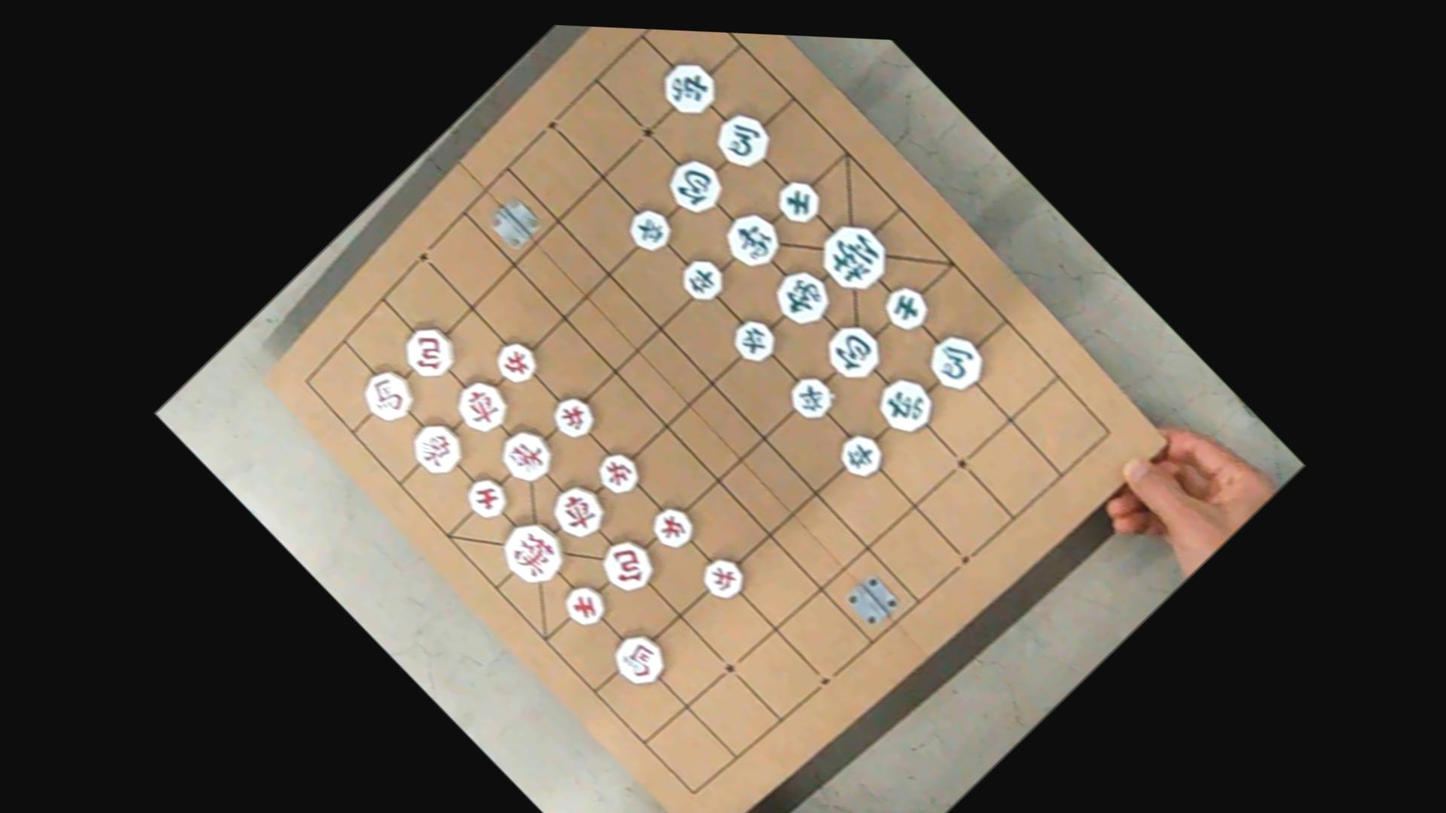cha_green: (869, 369, 941, 443), (654, 53, 725, 125)
cha_red: (544, 477, 613, 547), (447, 372, 516, 441)
jol_green: (831, 426, 889, 486), (782, 368, 840, 427), (673, 251, 731, 309), (621, 200, 678, 258), (726, 312, 783, 370)
jol_red: (695, 550, 752, 607), (645, 499, 700, 556), (545, 389, 600, 445), (489, 334, 544, 390), (590, 446, 645, 501)
ma_green: (921, 327, 993, 400), (708, 105, 778, 177)
ma_red: (354, 361, 423, 431), (605, 624, 674, 694)
po_green: (816, 315, 889, 389), (659, 150, 731, 222)
po_red: (593, 530, 663, 601), (396, 318, 463, 386)
sa_green: (877, 279, 935, 337), (769, 172, 826, 231)
sa_red: (557, 577, 612, 633), (459, 470, 514, 525)
sang_green: (715, 202, 789, 277), (765, 260, 838, 334)
sang_red: (492, 420, 562, 491), (404, 415, 471, 483)
wang_green: (810, 212, 898, 302)
wang_red: (491, 509, 575, 595)
